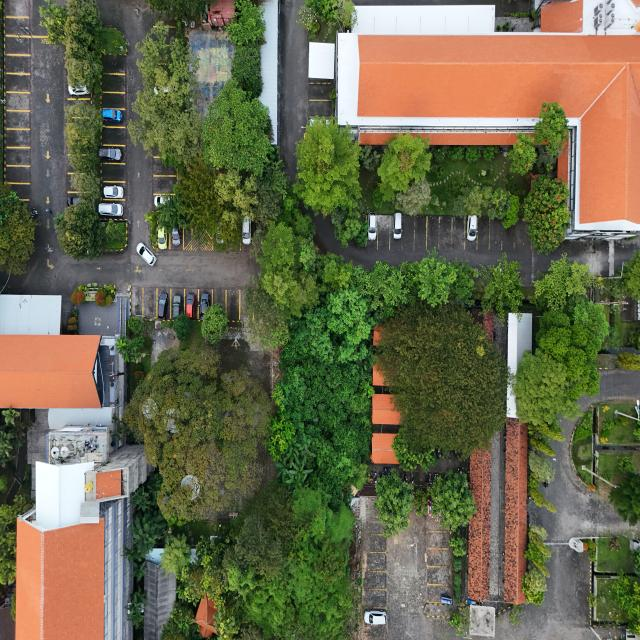Tree: (480, 250, 525, 324), (378, 133, 432, 189), (430, 471, 478, 532), (375, 468, 413, 536), (536, 100, 570, 158), (395, 179, 430, 212), (511, 131, 536, 175), (202, 302, 228, 344), (532, 418, 568, 444), (528, 486, 558, 515), (528, 450, 555, 480), (530, 435, 556, 458), (173, 314, 194, 341), (131, 560, 149, 582), (1, 406, 21, 424), (529, 522, 551, 538), (128, 315, 144, 335), (142, 210, 152, 223)
